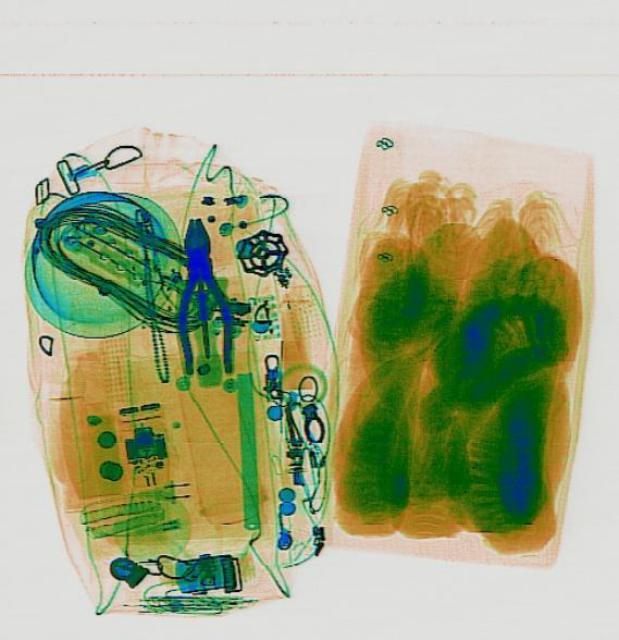Pliers: (166, 213, 233, 375)
